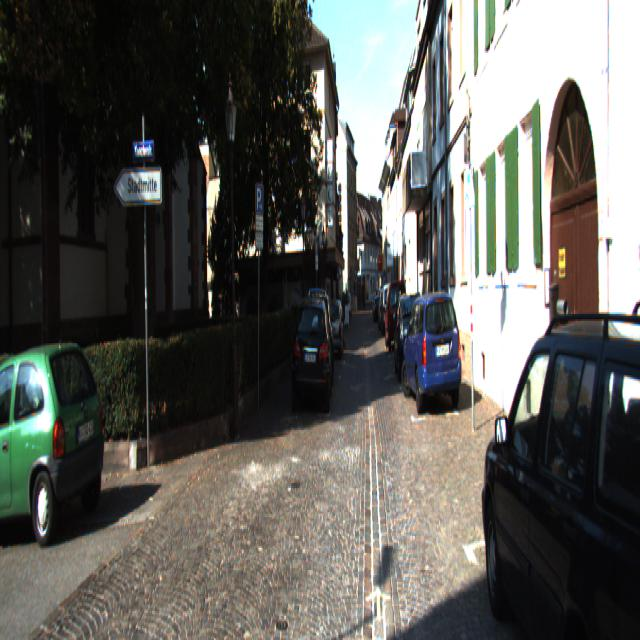Car: (478, 276, 640, 638), (0, 338, 115, 559), (401, 292, 465, 427), (291, 294, 331, 413), (390, 290, 433, 381), (384, 277, 408, 351), (323, 298, 345, 357)
